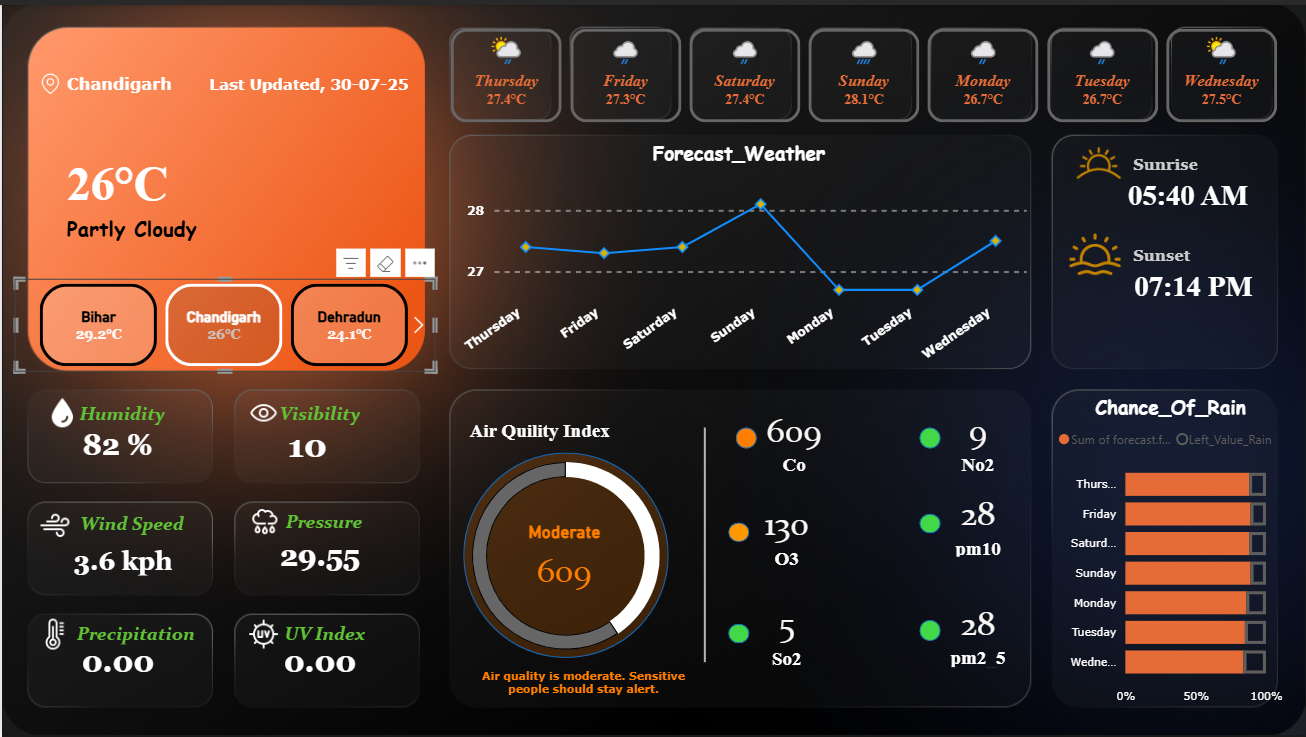

This screenshot's page, from the dashboard's own definition file:
{"tool":"powerbi","page":{"name":"Page 1","canvas":[1280,720],"ordinal":0},"visuals":[{"type":"shape","box":[452.8,439.1,201.7,201.7],"z":0},{"type":"advancedSlicerVisual","fields":{"Values":["Locations.location.name"]},"box":[12.7,269,412.7,91.5],"z":1000},{"type":"shape","box":[32.4,69,322.5,123.9],"z":2000},{"type":"shape","box":[22.5,69,322.5,149.3],"z":3000},{"type":"shape","box":[63.4,133.8,240.8,84.5],"z":4000},{"type":"shape","box":[63.4,198.6,240.8,39.4],"z":5000},{"type":"shape","box":[63.4,62,109.9,29.6],"z":6000},{"type":"shape","box":[204.2,57.7,204.2,39.4],"z":7000},{"type":"image","box":[32.4,62,31,29.6],"z":8000},{"type":"shape","box":[76.1,385.3,117.8,31.9],"z":9000},{"type":"shape","box":[272.4,385.3,105.5,31.9],"z":10000},{"type":"shape","box":[60.1,495.7,135,27],"z":11000},{"type":"shape","box":[278.5,490.8,117.8,31.9],"z":12000},{"type":"shape","box":[277.3,602.5,117.8,29.4],"z":13000},{"type":"shape","box":[73.3,600.7,152.3,31],"z":14000},{"type":"image","box":[236.8,597.5,40.5,40.5],"z":15000},{"type":"image","box":[39.3,380.4,40.5,40.5],"z":16000},{"type":"image","box":[236.8,380.4,40.5,40.5],"z":17000},{"type":"image","box":[31.9,490.8,40.5,40.5],"z":18000},{"type":"image","box":[238,487.1,40.5,40.5],"z":19000},{"type":"image","box":[27,597.5,50.3,40.5],"z":20000},{"type":"cardVisual","fields":{"Data":["All_Measures.Humidity_Per"]},"box":[57.8,384.9,111.4,87.4],"z":21000},{"type":"cardVisual","fields":{"Data":["Sum(Current_Data.current.vis_km)"]},"box":[244.3,385.6,111.1,86.4],"z":22000},{"type":"cardVisual","fields":{"Data":["All_Measures.Wind_Speed"]},"box":[29.6,510.4,179.1,62],"z":23000},{"type":"cardVisual","fields":{"Data":["Sum(Current_Data.current.pressure_in)"]},"box":[238.3,503.4,148.1,69.1],"z":24000},{"type":"cardVisual","fields":{"Data":["Sum(Current_Data.current.uv)"]},"box":[246.8,606.3,131.1,69.1],"z":25000},{"type":"cardVisual","fields":{"Data":["Sum(Current_Data.current.precip_in)"]},"box":[47.9,603.5,132.5,74.7],"z":26000},{"type":"advancedSlicerVisual","fields":{"Values":["Forcast_Day_Data.Days_Name"]},"box":[435.7,18.3,826.3,102.9],"z":27000},{"type":"lineChart","title":"Forecast_Weather","fields":{"Category":["Forecast_Day_Data.Days_Name"],"Y":["Sum(Forecast_Day_Data.forecast.forecastday.day.avgtemp_c)"]},"box":[435.7,131.4,575.7,228.6],"z":28000},{"type":"shape","box":[1110,135.7,118.6,40],"z":29000},{"type":"shape","box":[1110,225.7,122.9,40],"z":30000},{"type":"cardVisual","fields":{"Data":["Min(Forecast_Day_Data.Sunrise_Date)"]},"box":[1088.6,148.6,185.7,70],"z":31000},{"type":"cardVisual","fields":{"Data":["Min(Forecast_Day_Data.Sunset_Date)"]},"box":[1094.3,238.6,175.7,70],"z":32000},{"type":"image","box":[1042.9,121.4,67,67],"z":33000},{"type":"image","box":[1042.9,214.3,60,60],"z":34000},{"type":"hundredPercentStackedBarChart","title":"Chance_Of_Rain","fields":{"Category":["Forecast_Day_Data.Days_Name"],"Y":["Sum(Forecast_Day_Data.forecast.forecastday.day.daily_chance_of_rain)","All_Measures.Left_Value_Rain"]},"box":[1031.4,380,230,314.3],"z":35000},{"type":"shape","box":[720.6,415,20.7,20.7],"z":36000},{"type":"shape","box":[713.2,508,20.7,19.2],"z":37000},{"type":"shape","box":[713.2,606.9,20.7,19.2],"z":38000},{"type":"shape","box":[900.8,415,20.7,20.7],"z":39000},{"type":"shape","box":[900.8,499.1,20.7,19.2],"z":40000},{"type":"shape","box":[900.8,604,20.7,20.7],"z":41000},{"type":"shape","box":[458.6,397.1,151.4,40],"z":42000},{"type":"shape","box":[658.6,415,62,230.4],"z":43000},{"type":"card","fields":{"Values":["Sum(Current_Data.current.air_quality.co)"]},"box":[720.6,388.4,115.2,75.3],"z":44000},{"type":"card","fields":{"Values":["Sum(Current_Data.current.air_quality.o3)"]},"box":[713.2,481.4,115.2,75.3],"z":45000},{"type":"card","fields":{"Values":["Sum(Current_Data.current.air_quality.so2)"]},"box":[713.2,578.9,115.2,75.3],"z":46000},{"type":"card","fields":{"Values":["Sum(Current_Data.current.air_quality.no2)"]},"box":[900.8,388.4,115.2,75.3],"z":47000},{"type":"card","fields":{"Values":["Sum(Current_Data.current.air_quality.pm10)"]},"box":[900.8,471.1,115.2,75.3],"z":48000},{"type":"card","fields":{"Values":["Sum(Current_Data.current.air_quality.pm2_5)"]},"box":[900.8,577.4,115.2,76.8],"z":49000},{"type":"shape","box":[451.1,645.5,238.4,39.5],"z":50000},{"type":"card","fields":{"Values":["Sum(Current_Data.current.air_quality.co)"]},"box":[494,506.3,115.3,75.5],"z":51000},{"type":"donutChart","fields":{"Y":["Sum(Current_Data.current.air_quality.co)","All_Measures.Left_Value_Co"]},"box":[382.8,421.3,341.7,240.1],"z":52000}]}

Visuals, with their boxes on the page's 1280x720 design canvas (x1, y1, x2, y2). These are canvas units, not pixel positions in the 1306x737 screenshot, which may show the page scaled, cropped or inside an application window:
shape: BBox(453, 439, 654, 641)
advancedSlicerVisual - Locations.location.name: BBox(13, 269, 425, 360)
shape: BBox(32, 69, 355, 193)
shape: BBox(22, 69, 345, 218)
shape: BBox(63, 134, 304, 218)
shape: BBox(63, 199, 304, 238)
shape: BBox(63, 62, 173, 92)
shape: BBox(204, 58, 408, 97)
image: BBox(32, 62, 63, 92)
shape: BBox(76, 385, 194, 417)
shape: BBox(272, 385, 378, 417)
shape: BBox(60, 496, 195, 523)
shape: BBox(278, 491, 396, 523)
shape: BBox(277, 602, 395, 632)
shape: BBox(73, 601, 226, 632)
image: BBox(237, 598, 277, 638)
image: BBox(39, 380, 80, 421)
image: BBox(237, 380, 277, 421)
image: BBox(32, 491, 72, 531)
image: BBox(238, 487, 278, 528)
image: BBox(27, 598, 77, 638)
cardVisual - All_Measures.Humidity_Per: BBox(58, 385, 169, 472)
cardVisual - Sum(Current_Data.current.vis_km): BBox(244, 386, 355, 472)
cardVisual - All_Measures.Wind_Speed: BBox(30, 510, 209, 572)
cardVisual - Sum(Current_Data.current.pressure_in): BBox(238, 503, 386, 572)
cardVisual - Sum(Current_Data.current.uv): BBox(247, 606, 378, 675)
cardVisual - Sum(Current_Data.current.precip_in): BBox(48, 604, 180, 678)
advancedSlicerVisual - Forcast_Day_Data.Days_Name: BBox(436, 18, 1262, 121)
"Forecast_Weather" lineChart: BBox(436, 131, 1011, 360)
shape: BBox(1110, 136, 1229, 176)
shape: BBox(1110, 226, 1233, 266)
cardVisual - Min(Forecast_Day_Data.Sunrise_Date): BBox(1089, 149, 1274, 219)
cardVisual - Min(Forecast_Day_Data.Sunset_Date): BBox(1094, 239, 1270, 309)
image: BBox(1043, 121, 1110, 188)
image: BBox(1043, 214, 1103, 274)
"Chance_Of_Rain" hundredPercentStackedBarChart: BBox(1031, 380, 1261, 694)
shape: BBox(721, 415, 741, 436)
shape: BBox(713, 508, 734, 527)
shape: BBox(713, 607, 734, 626)
shape: BBox(901, 415, 922, 436)
shape: BBox(901, 499, 922, 518)
shape: BBox(901, 604, 922, 625)
shape: BBox(459, 397, 610, 437)
shape: BBox(659, 415, 721, 645)
card - Sum(Current_Data.current.air_quality.co): BBox(721, 388, 836, 464)
card - Sum(Current_Data.current.air_quality.o3): BBox(713, 481, 828, 557)
card - Sum(Current_Data.current.air_quality.so2): BBox(713, 579, 828, 654)
card - Sum(Current_Data.current.air_quality.no2): BBox(901, 388, 1016, 464)
card - Sum(Current_Data.current.air_quality.pm10): BBox(901, 471, 1016, 546)
card - Sum(Current_Data.current.air_quality.pm2_5): BBox(901, 577, 1016, 654)
shape: BBox(451, 646, 690, 685)
card - Sum(Current_Data.current.air_quality.co): BBox(494, 506, 609, 582)
donutChart - Sum(Current_Data.current.air_quality.co) x All_Measures.Left_Value_Co: BBox(383, 421, 724, 661)
